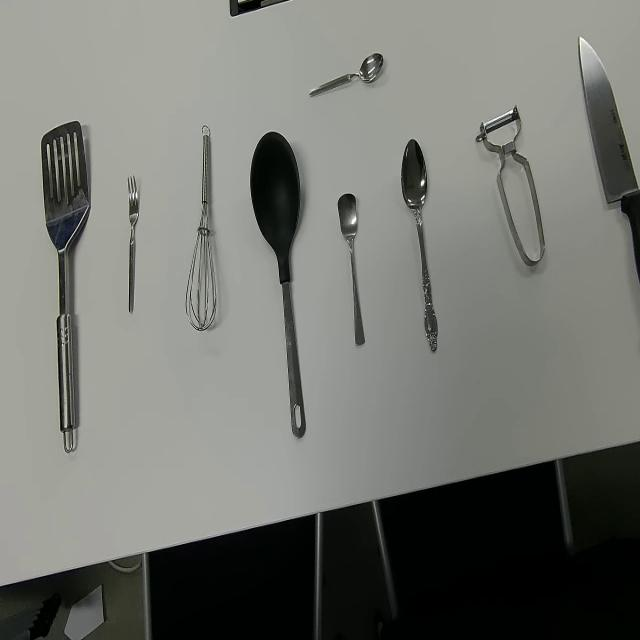Desert-Spoon: (399, 137, 438, 354)
Dinner-Fork: (127, 174, 140, 314)
Kitchen-Knife: (578, 36, 640, 292)
Peeler: (474, 104, 545, 268)
Serving-Spoon: (249, 130, 307, 440), (40, 118, 91, 454)
Tea-Spoon: (336, 192, 365, 348), (309, 50, 384, 100)
Whisk: (185, 123, 218, 333)
